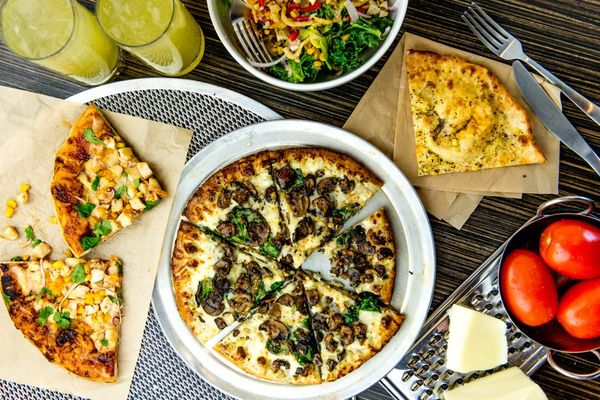sushi: (209, 0, 408, 91), (498, 213, 600, 351)
